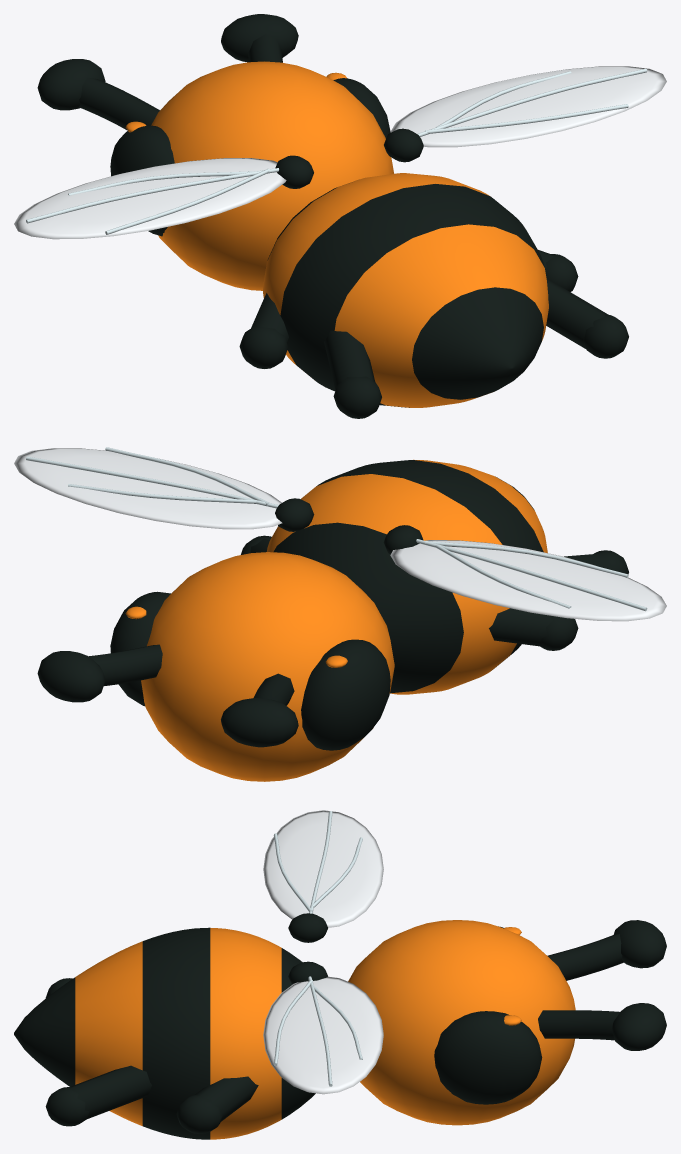
File: Bee_Orange.fbx
3 renders of one model, top to bottom at view 1: azimuth 30°, elevation 25°; view 2: azimuth 150°, elevation 25°; view 3: azimuth 270°, elevation 25°, orthographic. The views are drawn at different scales.
Visible parts, largest first — view 1: Gameplay_Bee_Orange_Color, Gameplay_Bee_Orange_Dark, Gameplay_Bee_Orange_LeftMembrane, Gameplay_Bee_Orange_RightMembrane, Bee_Orange_Grip_RightRear, Bee_Orange_Grip_LeftRear, Bee_Orange_Grip_LeftFront, Bee_Orange_Grip_RightFront; view 2: Gameplay_Bee_Orange_Color, Gameplay_Bee_Orange_Dark, Gameplay_Bee_Orange_LeftMembrane, Gameplay_Bee_Orange_RightMembrane, Bee_Orange_Grip_LeftFront, Bee_Orange_Grip_LeftRear; view 3: Gameplay_Bee_Orange_Color, Gameplay_Bee_Orange_Dark, Gameplay_Bee_Orange_RightMembrane, Gameplay_Bee_Orange_LeftMembrane, Bee_Orange_Grip_RightRear, Bee_Orange_Grip_RightFront.
Boxes of the visible parts, box(x1,y1,x2,y2) form: Gameplay_Bee_Orange_Color: box(125, 61, 548, 407); Gameplay_Bee_Orange_Dark: box(37, 14, 544, 407); Gameplay_Bee_Orange_LeftMembrane: box(14, 158, 286, 239); Gameplay_Bee_Orange_RightMembrane: box(390, 66, 666, 147); Bee_Orange_Grip_RightRear: box(546, 278, 628, 358); Bee_Orange_Grip_LeftRear: box(324, 330, 381, 418); Bee_Orange_Grip_LeftFront: box(239, 293, 288, 368); Bee_Orange_Grip_RightFront: box(538, 250, 578, 291); Gameplay_Bee_Orange_Color: box(125, 459, 547, 781); Gameplay_Bee_Orange_Dark: box(37, 460, 543, 750); Gameplay_Bee_Orange_LeftMembrane: box(390, 539, 666, 621); Gameplay_Bee_Orange_RightMembrane: box(14, 447, 282, 529); Bee_Orange_Grip_LeftFront: box(489, 608, 578, 650); Bee_Orange_Grip_LeftRear: box(564, 550, 628, 574); Gameplay_Bee_Orange_Color: box(75, 920, 575, 1139); Gameplay_Bee_Orange_Dark: box(14, 913, 666, 1139); Gameplay_Bee_Orange_RightMembrane: box(263, 976, 383, 1094); Gameplay_Bee_Orange_LeftMembrane: box(263, 810, 383, 927); Bee_Orange_Grip_RightRear: box(45, 1065, 151, 1126); Bee_Orange_Grip_RightFront: box(176, 1076, 258, 1133).
Size of the model in its own units: 329 by 104 by 320.
